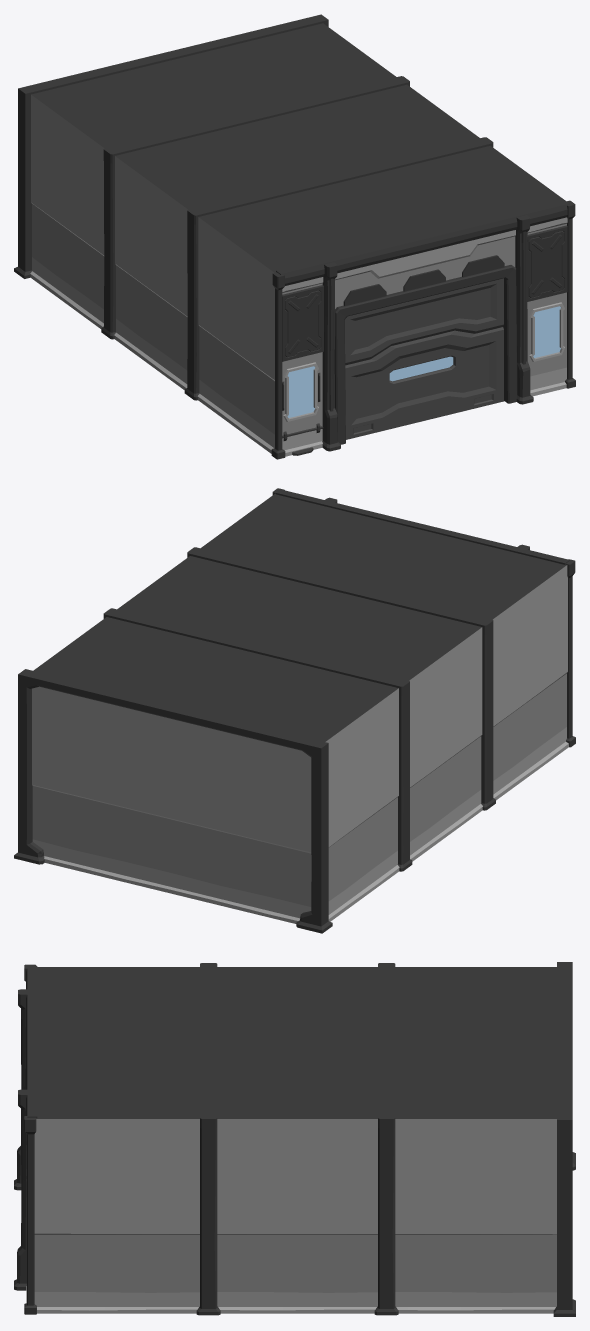
The model's file is SM_Bld_Warehouse_91.fbx.
3 views of the same model, one above another, from view 1: azimuth 30°, elevation 25°; view 2: azimuth 150°, elevation 25°; view 3: azimuth 270°, elevation 25° (orthographic). The views are drawn at different scales.
Visible parts, largest first — view 1: SM_Bld_Warehouse_01; view 2: SM_Bld_Warehouse_01; view 3: SM_Bld_Warehouse_01.
Part boxes in pixels (box(x1,y1,x2,y2)): SM_Bld_Warehouse_01: box(14, 14, 575, 459); SM_Bld_Warehouse_01: box(14, 488, 575, 933); SM_Bld_Warehouse_01: box(14, 962, 575, 1316).
Size of the model in its own units: 1067 by 607 by 1579.
